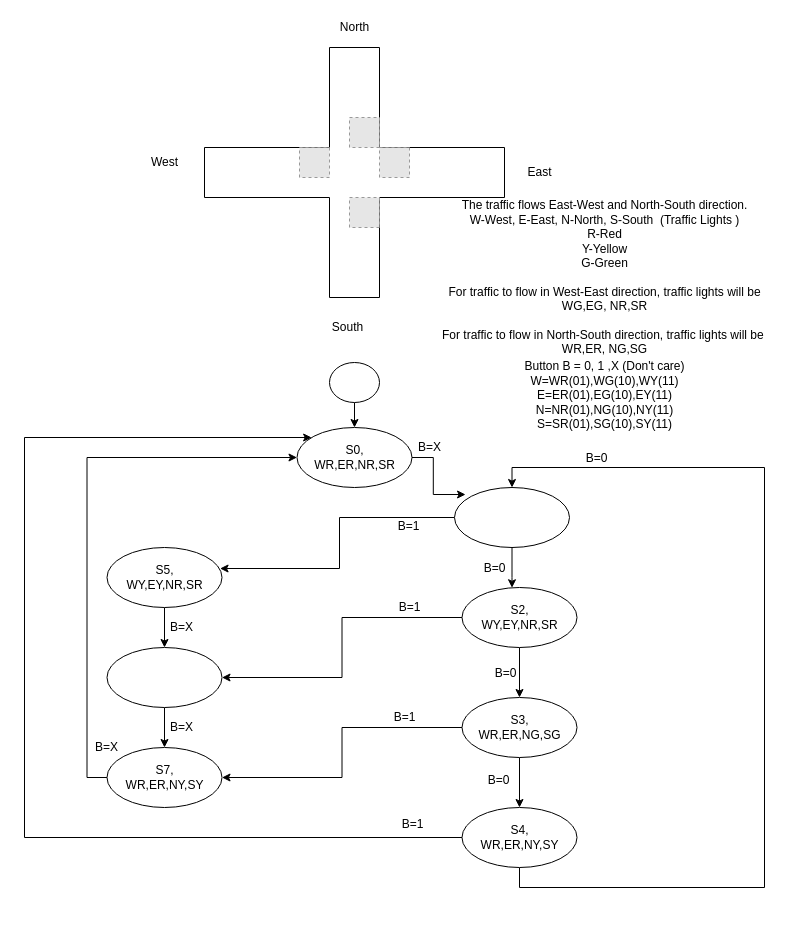
Some shapes in this 792 by 934 pixel diagram are drawn without their labels. Grey dashed boxes stand in for pictures. Each missing label, with the centre of its shape:
"S1, WG,EG,NR,SR" goes at pixel 512 517.
"S6, WR,ER,NG,SG" goes at pixel 164 677.
"Start" goes at pixel 354 382.
